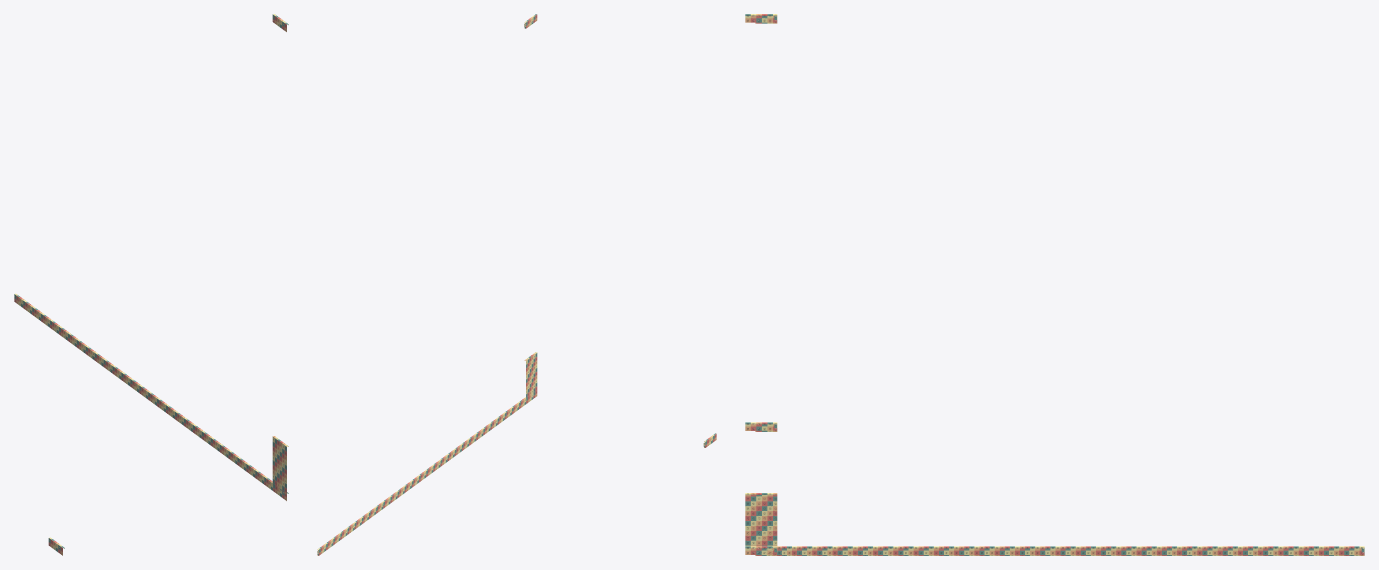
File: posts.glb
3 views of the same model, side by side, from view 1: azimuth 30°, elevation 25°; view 2: azimuth 150°, elevation 25°; view 3: azimuth 270°, elevation 25° (orthographic). The views are drawn at different scales.
Visible parts, largest first — view 1: connectionBarLeftDepth, connectionBarLeftHeight; view 2: connectionBarLeftDepth; view 3: connectionBarLeftDepth, connectionBarLeftHeight.
Part boxes in pixels (x1,y1,x2,y2): connectionBarLeftDepth: (14,293,280,496); connectionBarLeftHeight: (272,436,288,494); connectionBarLeftDepth: (317,394,532,555); connectionBarLeftDepth: (759,546,1364,555); connectionBarLeftHeight: (745,493,777,546).
Bounding box in the file's own units: 5.05 × 10.16 × 10.55.
Materials: 1 (1 with a texture image).
